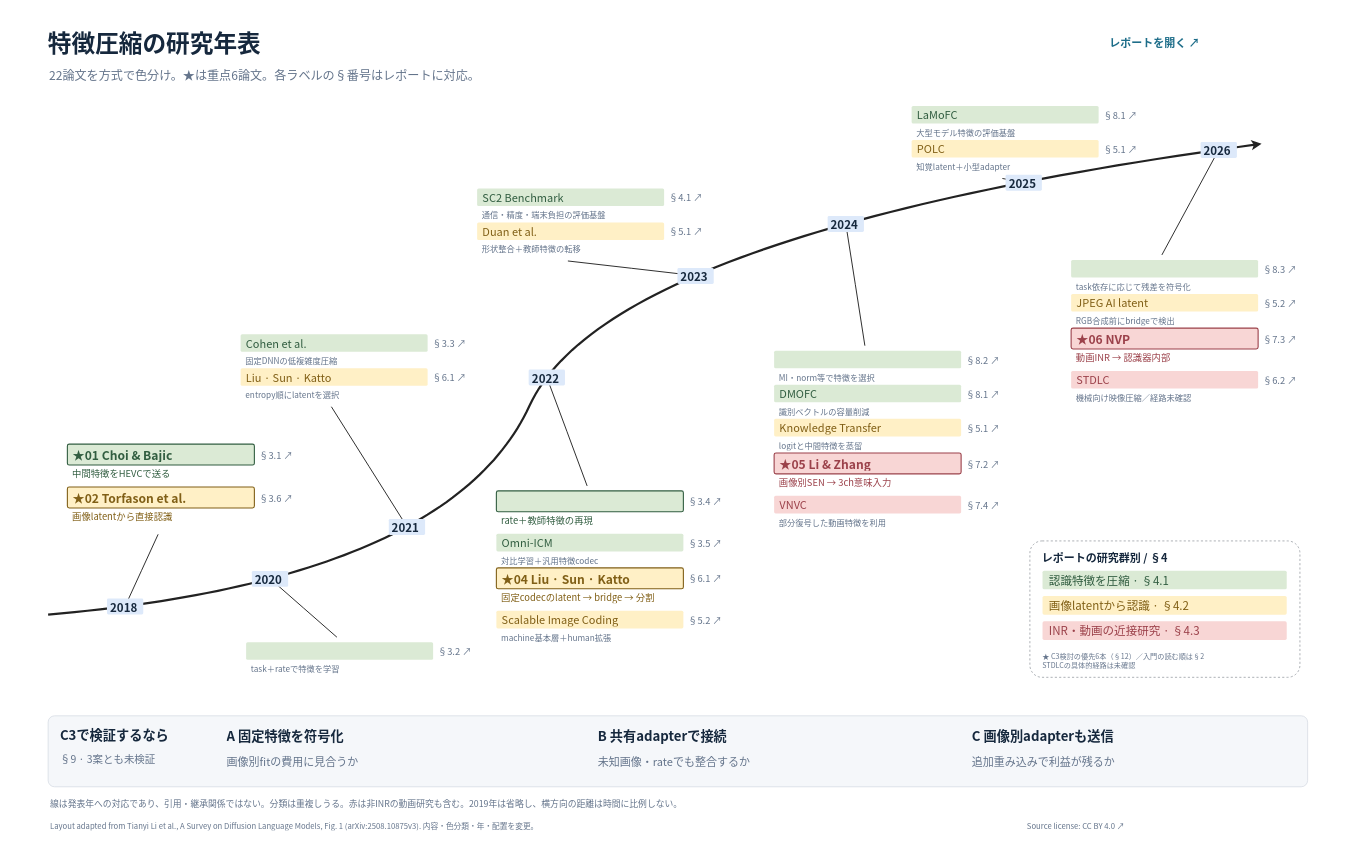
This 1361x860 diagram has some shape labels left out. Here are the shapes that lost their labels. From the top down, the box of each, then its label:
(1071, 260, 1258, 277): ATDC
(774, 350, 961, 368): Feature Selection
(496, 490, 684, 512): ★03 Entropic Student
(246, 642, 433, 659): Compressible Features
